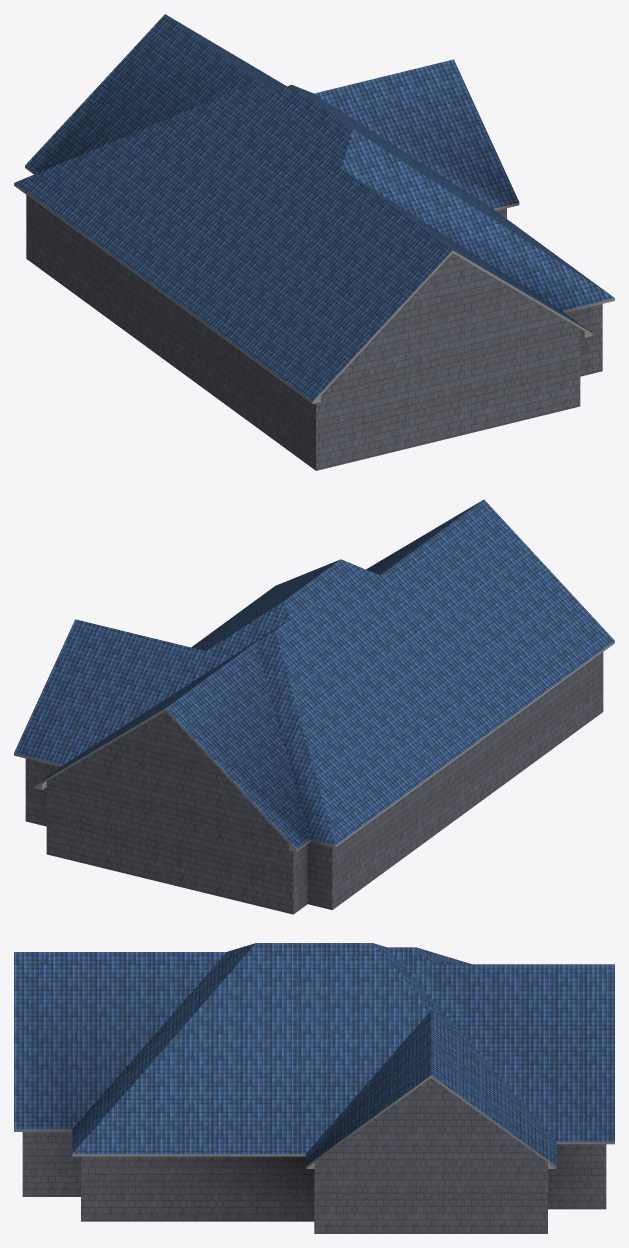
Rendered from house_026.glb.
The picture shows the model from 3 angles, top to bottom: view 1: azimuth 30°, elevation 25°; view 2: azimuth 150°, elevation 25°; view 3: azimuth 270°, elevation 25°; orthographic projection. The views are drawn at different scales.
Visible parts, largest first — view 1: Export; view 2: Export; view 3: Export.
Boxes of the visible parts, left/top/right/bottom form: Export: left=14, top=14, right=614, bottom=470; Export: left=14, top=499, right=614, bottom=914; Export: left=14, top=943, right=614, bottom=1233.
Bounding box in the file's own units: 13.6 × 7.74 × 20.6.
Materials: 3 (3 with a texture image).
